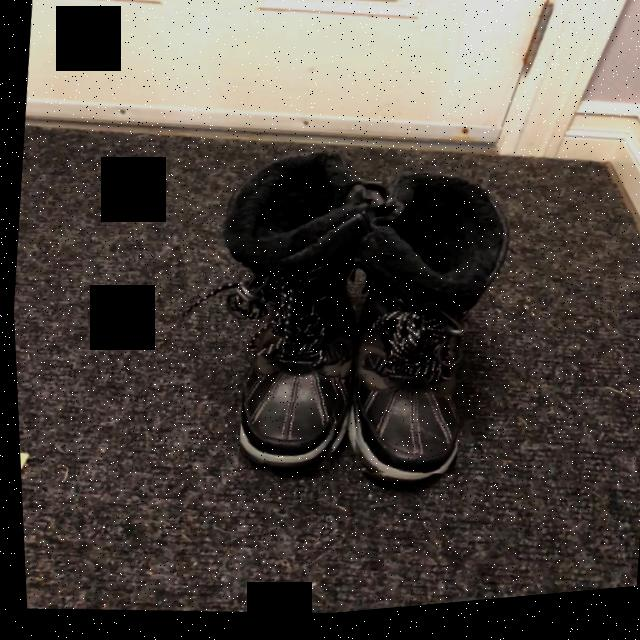shoe: (235, 283, 348, 474), (350, 302, 458, 481)
